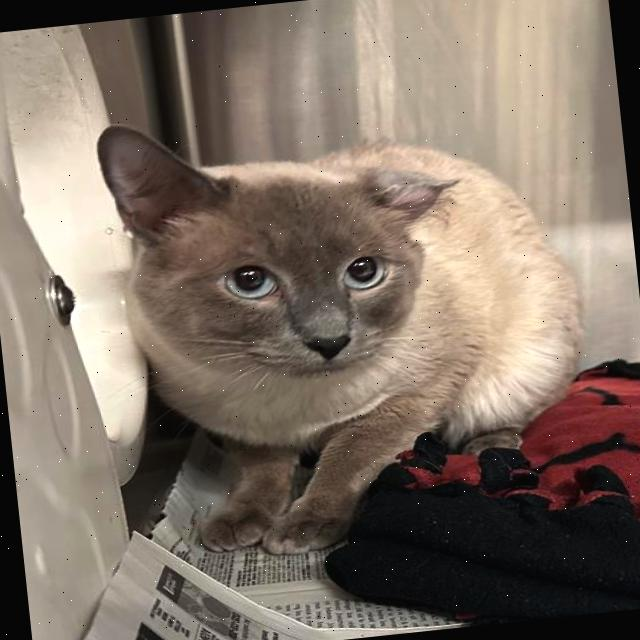siamese_cat: (76, 79, 502, 437)
